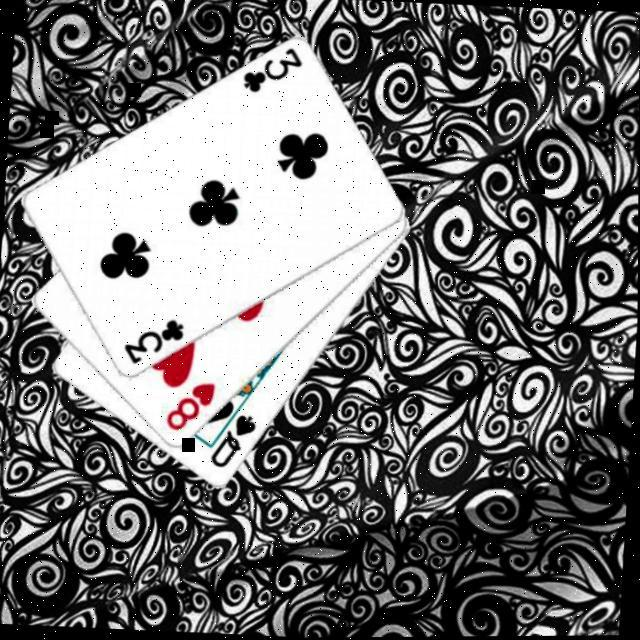3C: (238, 44, 306, 100), (118, 316, 186, 370)
8H: (162, 380, 219, 438)
QS: (207, 411, 260, 474)
